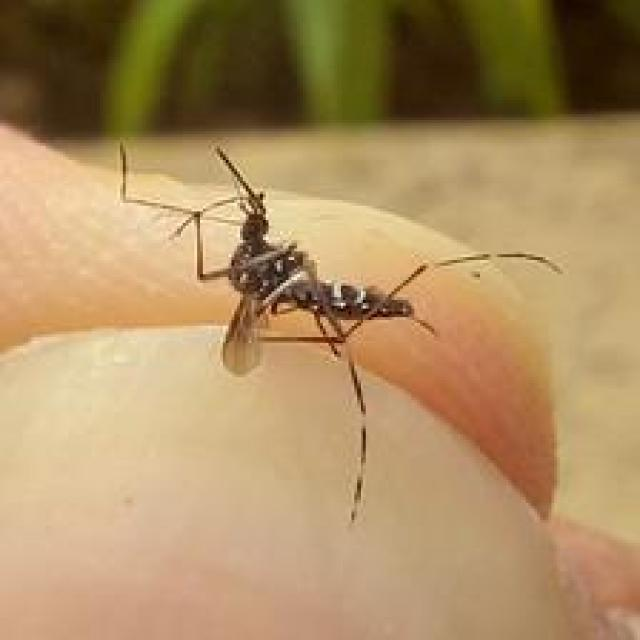Aedes albopictus: (117, 140, 563, 526)
